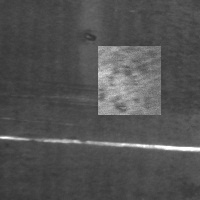rolled-in_scale: (98, 46, 161, 115)
scratches: (4, 131, 199, 153)
